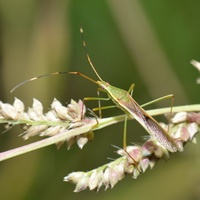insect: (15, 54, 177, 151)
